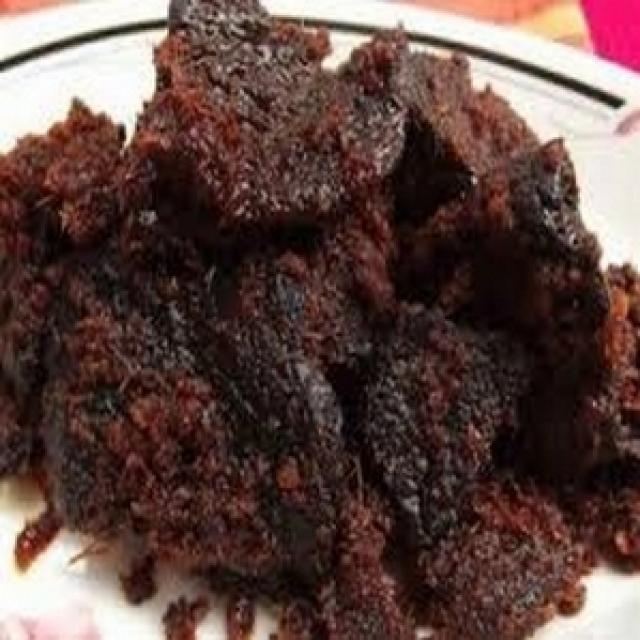rendang: (40, 21, 640, 612)
